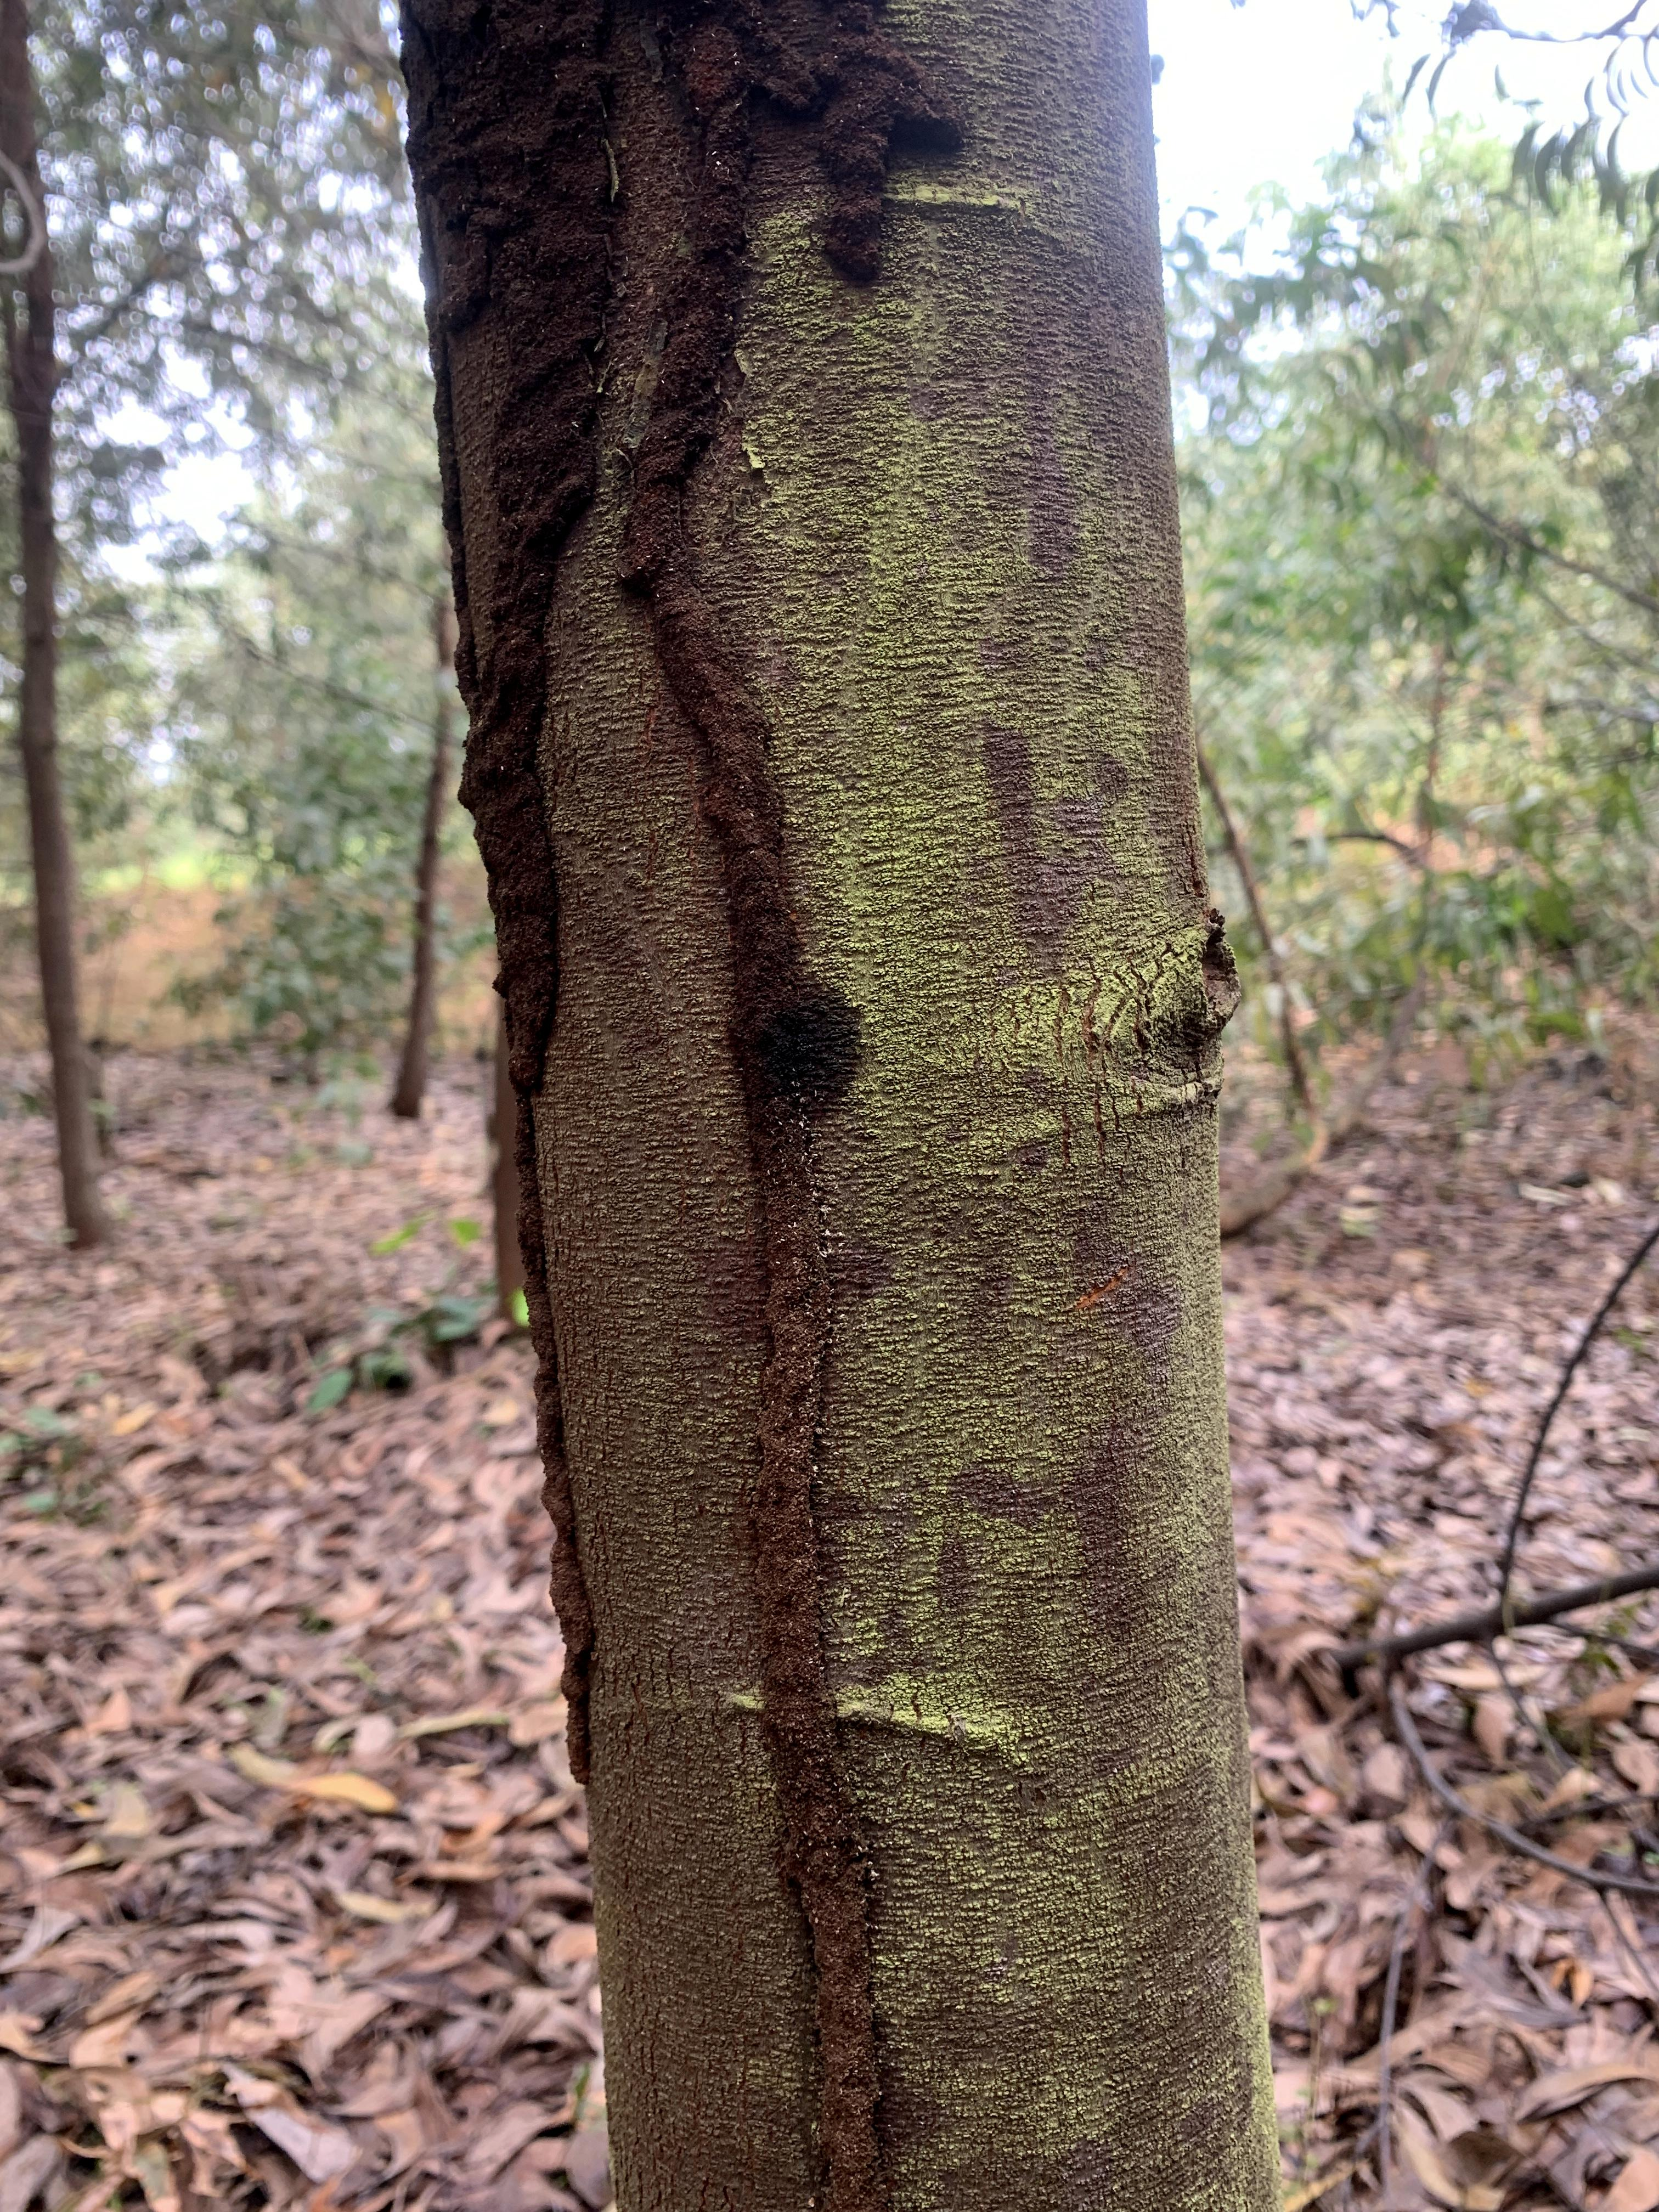Termite - Nest: (464, 0, 1000, 1055)
